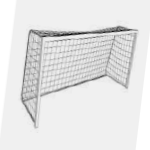goals: (19, 22, 140, 130)
